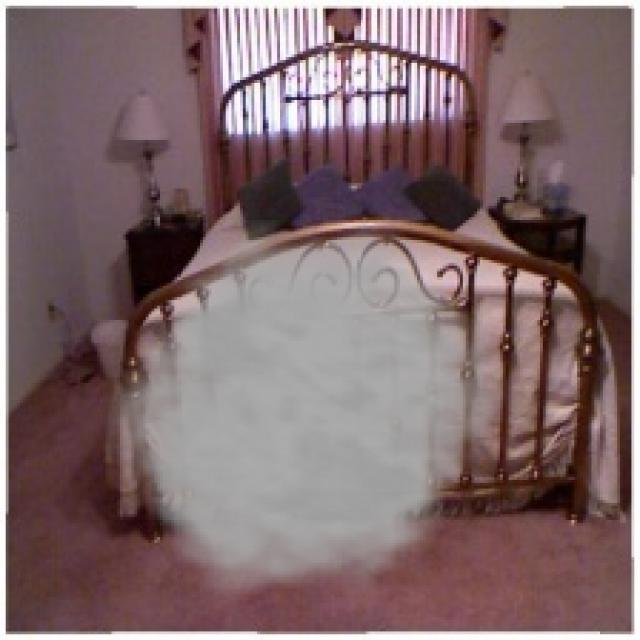smoke: (100, 220, 517, 611)
